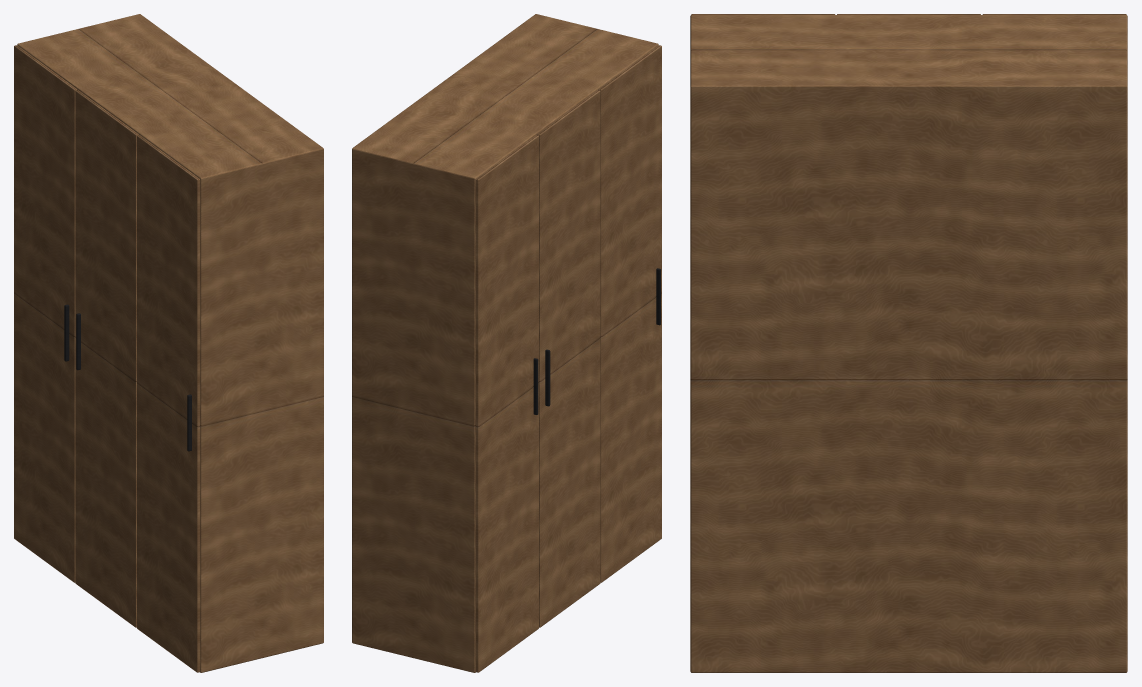
File: bed2_wardrobe.glb
3 renders of one model, left to right at view 1: azimuth 30°, elevation 25°; view 2: azimuth 150°, elevation 25°; view 3: azimuth 270°, elevation 25°, orthographic. The views are drawn at different scales.
Parts seen in each view (by area): view 1: bed2_wardrobe; view 2: bed2_wardrobe; view 3: bed2_wardrobe.
Part boxes in pixels (x1,y1,x2,y2): bed2_wardrobe: (14, 14, 323, 672); bed2_wardrobe: (352, 14, 661, 672); bed2_wardrobe: (690, 14, 1127, 672).
Size of the model in its own units: 0.636 by 2.3 by 1.55.
Materials: 2 (2 with a texture image).
